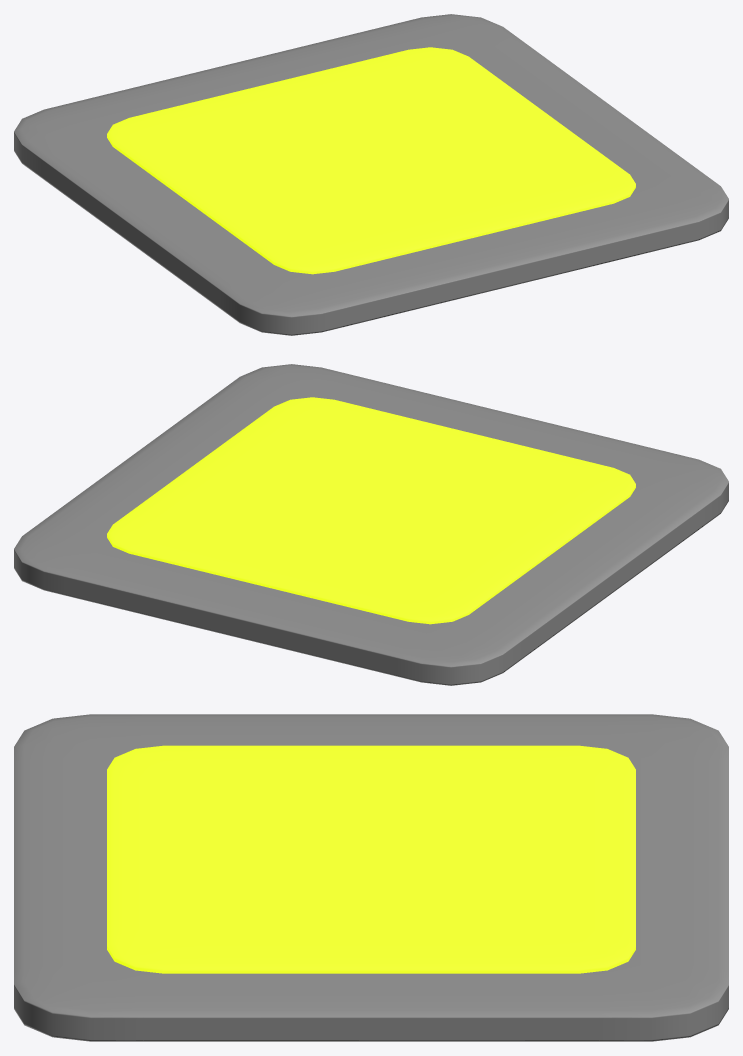
Rendered from ButtonSwitchLightModel.fbx.
3 views of the same model, one above another, from view 1: azimuth 30°, elevation 25°; view 2: azimuth 150°, elevation 25°; view 3: azimuth 270°, elevation 25° (orthographic). The views are drawn at different scales.
Parts seen in each view (by area): view 1: ButtonSwitchLightTileGlow, ButtonSwitchLightTile; view 2: ButtonSwitchLightTileGlow, ButtonSwitchLightTile; view 3: ButtonSwitchLightTileGlow, ButtonSwitchLightTile.
Part boxes in pixels (x1,y1,x2,y2): ButtonSwitchLightTileGlow: [107, 47, 635, 274]; ButtonSwitchLightTile: [14, 14, 728, 335]; ButtonSwitchLightTileGlow: [107, 397, 635, 624]; ButtonSwitchLightTile: [14, 364, 728, 685]; ButtonSwitchLightTileGlow: [107, 745, 635, 973]; ButtonSwitchLightTile: [14, 714, 728, 1041].
Bounding box in the file's own units: 200 × 12.53 × 200.
